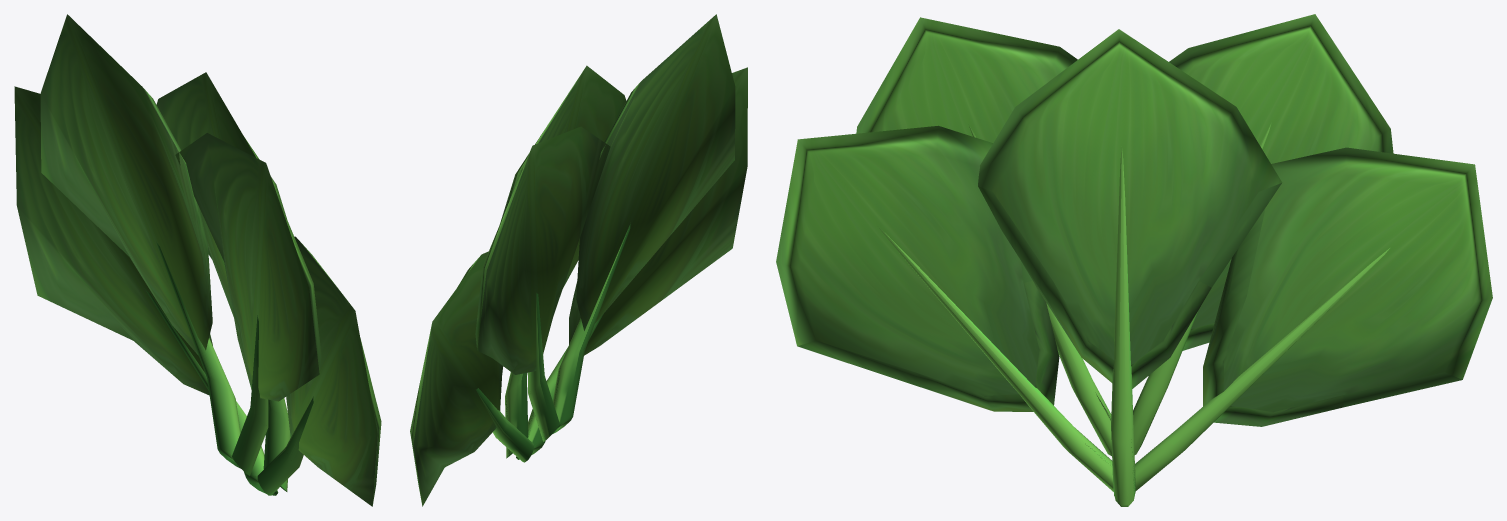
The model's file is Pohon 5.fbx.
3 renders of one model, left to right at view 1: azimuth 30°, elevation 25°; view 2: azimuth 150°, elevation 25°; view 3: azimuth 270°, elevation 25°, orthographic. The views are drawn at different scales.
Parts seen in each view (by area): view 1: Cylinder.002, Cylinder.001, Cylinder.003, Cylinder.004, Cylinder; view 2: Cylinder.001, Cylinder.002, Cylinder.003, Cylinder.004, Cylinder; view 3: Cylinder, Cylinder.003, Cylinder.004, Cylinder.002, Cylinder.001.
Boxes of the visible parts, <box> form: Cylinder.002: <box>40,14,240,468</box>; Cylinder.001: <box>175,133,321,475</box>; Cylinder.003: <box>14,86,278,495</box>; Cylinder.004: <box>257,236,381,506</box>; Cylinder: <box>156,72,290,491</box>; Cylinder.001: <box>553,14,735,433</box>; Cylinder.002: <box>475,126,610,441</box>; Cylinder.003: <box>410,251,534,506</box>; Cylinder.004: <box>516,67,747,459</box>; Cylinder: <box>500,65,626,458</box>; Cylinder: <box>978,29,1282,506</box>; Cylinder.003: <box>1114,147,1492,495</box>; Cylinder.004: <box>776,125,1113,491</box>; Cylinder.002: <box>1133,14,1393,454</box>; Cylinder.001: <box>856,17,1111,455</box>.
Size of the model in its own units: 273 by 922 by 1366.
Materials: 5 (5 with a texture image).
